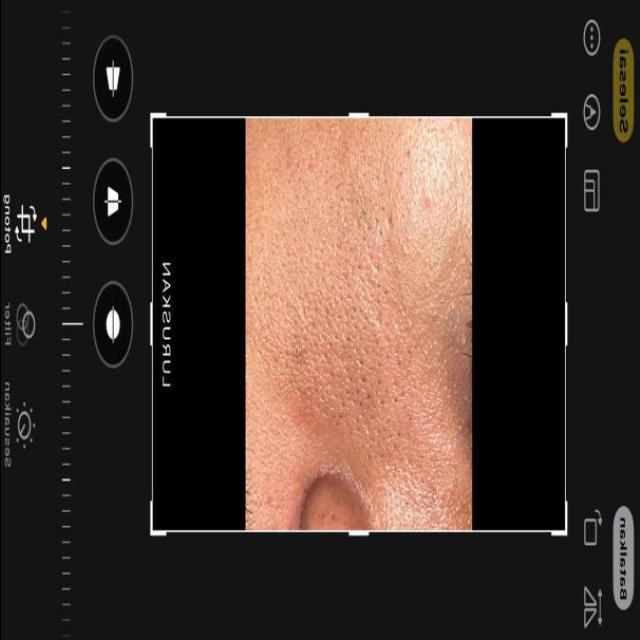blackhead: (320, 171, 411, 489)
